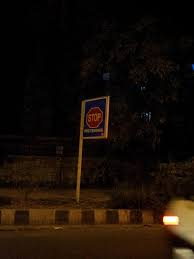stop: (81, 100, 105, 134)
